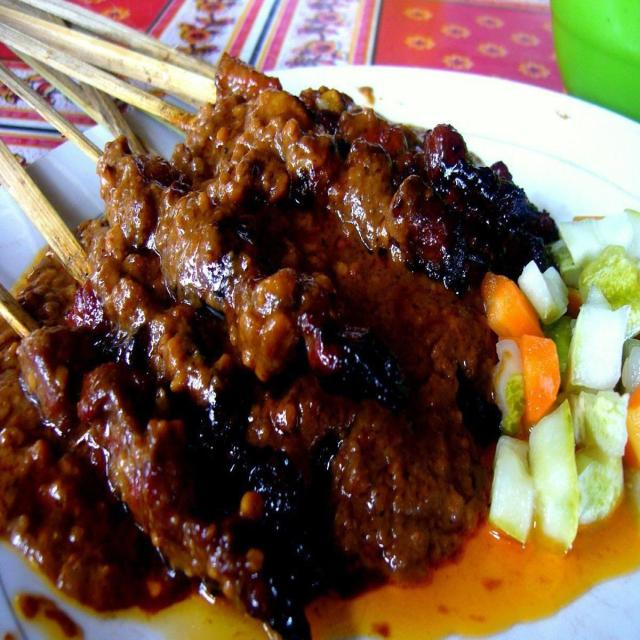Sate: (0, 35, 530, 578)
